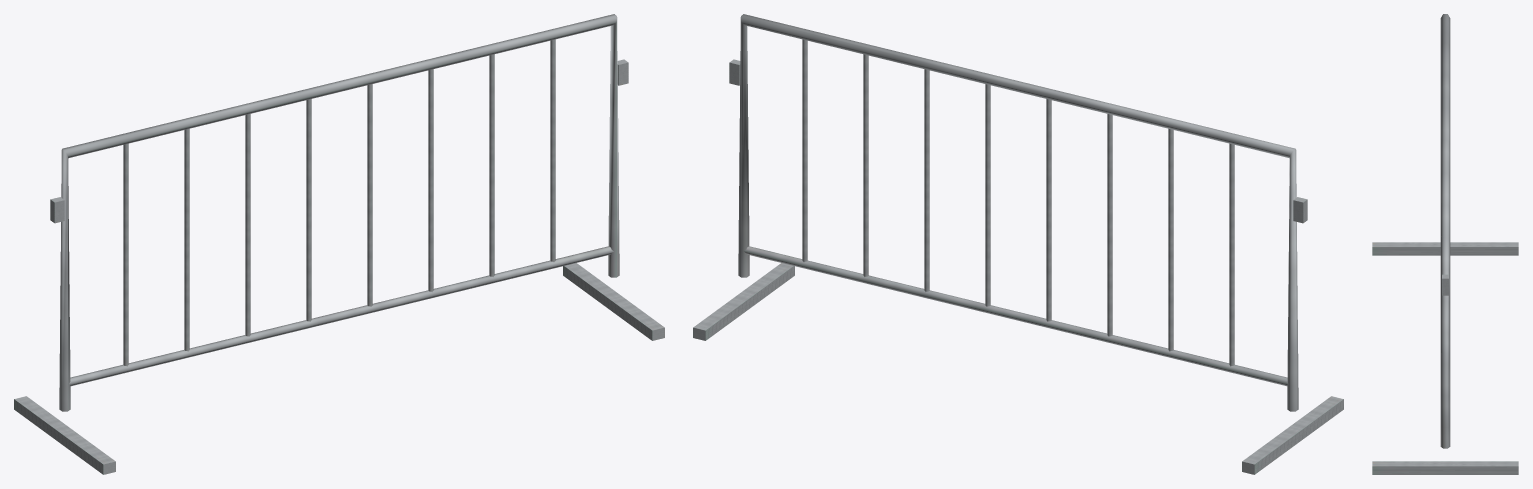
File: barriere_vauban_lod1.glb
The picture shows the model from 3 angles, left to right: view 1: azimuth 30°, elevation 25°; view 2: azimuth 150°, elevation 25°; view 3: azimuth 270°, elevation 25°; orthographic projection. The views are drawn at different scales.
Visible parts, largest first — view 1: barriere_vauban; view 2: barriere_vauban; view 3: barriere_vauban.
Part boxes in pixels (x1,y1,x2,y2): barriere_vauban: [14, 14, 664, 474]; barriere_vauban: [693, 14, 1343, 474]; barriere_vauban: [1372, 14, 1518, 474].
Size of the model in its own units: 2.3 by 1.12 by 0.62.
1 material, 1 textured.
